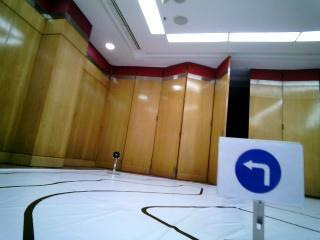left: (223, 142, 294, 204)
